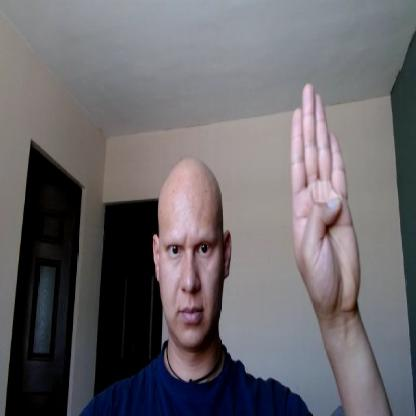B: (290, 82, 362, 313)
